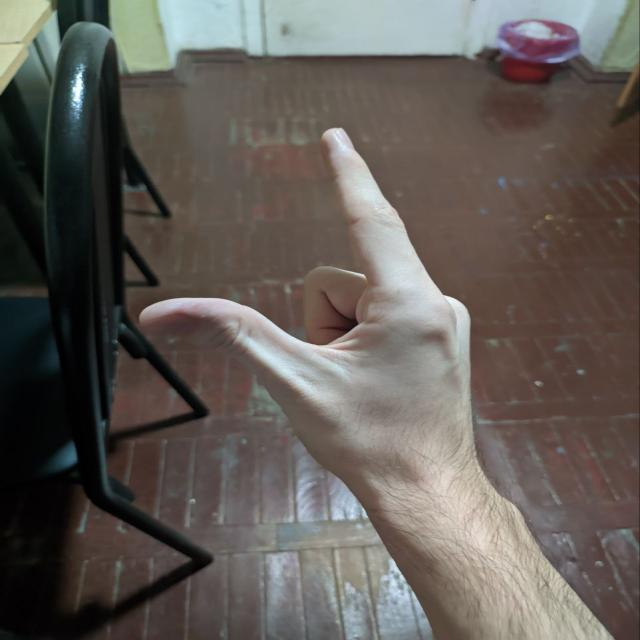-: (128, 116, 541, 513)
